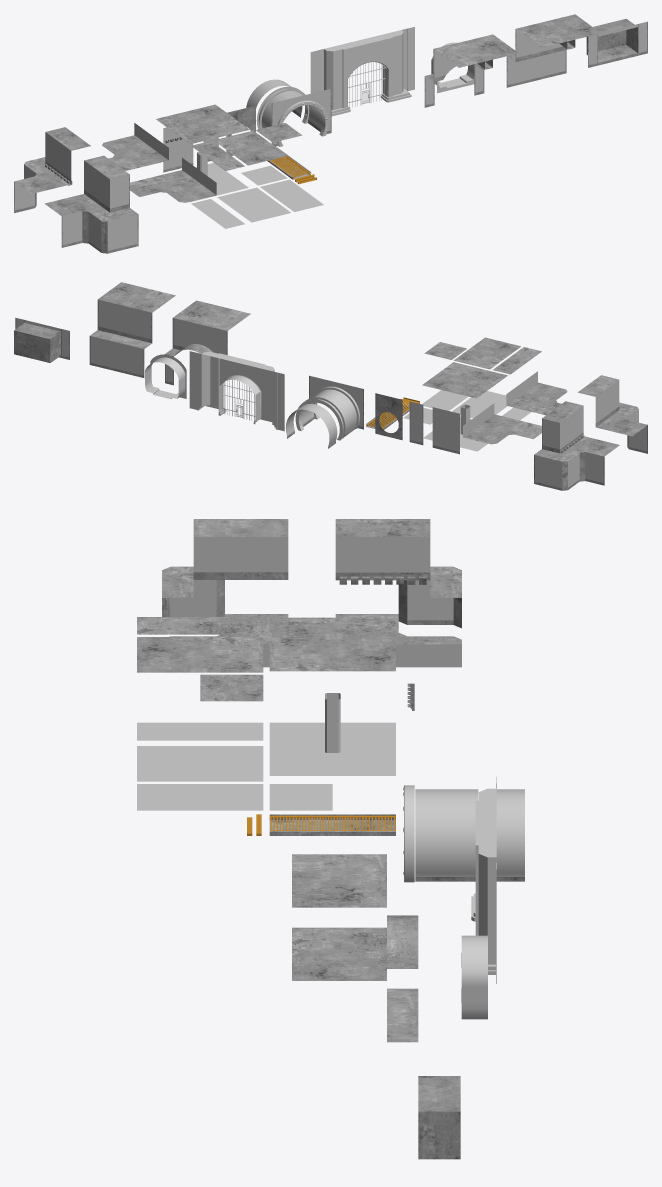
Rendered from Sewerage_Module_2.fbx.
3 renders of one model, top to bottom at view 1: azimuth 30°, elevation 25°; view 2: azimuth 150°, elevation 25°; view 3: azimuth 270°, elevation 25°, orthographic. The views are drawn at different scales.
Parts seen in each view (by area): view 1: SW_2_Entrance, SW_2_Transition_Tile_Ceiling_2_R, SW_2_Tile_Big_1, SW_2_Transition_Tile_Base_R, SW_2_Tile_Big_Ceiling, SW_2_Transition_Tile_Ceiling_2_L, SW_2_Tile_Big_Wall_2, SW_2_Ceiling_Tile_12x12m, SW_2_Transition_Tile_Ceiling_1_R, SW_2_Transition_Tile_Ceiling_1_L, SW_2_Tile_Big_Wall_1, SW_2_Ceiling_Tile_12x8m (+19 smaller); view 2: SW_2_Entrance, SW_2_Tile_Big_Ceiling, SW_2_Tile_Big_1, SW_2_Transition_Tile_Ceiling_2_L, SW_2_Transition_Tile_Base_L, SW_2_Transition_Tile_Ceiling_2_R, SW_2_Tile_Big_Wall_2, SW_2_Ceiling_Tile_12x12m, SW_2_Transition_Tile_Ceiling_1_L, SW_2_Tile_Big_Wall_1, SW_2_Transition_Tile_Ceiling_1_R, SW_2_Ceiling_Tile_12x8m (+17 smaller); view 3: SW_2_Ceiling_Tile_12x12m, SW_2_Tile_Big_Ceiling, SW_2_Tile_Big_1, SW_2_Transition_Tile_Ceiling_2_R, SW_2_Transition_Tile_Ceiling_2_L, SW_2_Ground_Tile_12x12m, SW_2_Tunnel_Tile, SW_2_Ceiling_Tile_12x8m, SW_2_Ground_Tile_12x8m, SW_2_Entrance, SW_2_Tile_Big_Wall_2, SW_2_Ground_Tile_12x6m (+13 smaller).
Part boxes in pixels (box(x1,y1,x2,y2)): SW_2_Entrance: box(310, 27, 414, 116); SW_2_Transition_Tile_Ceiling_2_R: box(44, 155, 138, 221); SW_2_Tile_Big_1: box(424, 34, 518, 107); SW_2_Transition_Tile_Base_R: box(61, 211, 138, 253); SW_2_Tile_Big_Ceiling: box(507, 14, 600, 62); SW_2_Transition_Tile_Ceiling_2_L: box(14, 127, 90, 193); SW_2_Tile_Big_Wall_2: box(586, 18, 647, 67); SW_2_Ceiling_Tile_12x12m: box(156, 104, 249, 144); SW_2_Transition_Tile_Ceiling_1_R: box(130, 158, 216, 202); SW_2_Transition_Tile_Ceiling_1_L: box(102, 123, 168, 170); SW_2_Tile_Big_Wall_1: box(506, 50, 566, 87); SW_2_Ceiling_Tile_12x8m: box(214, 130, 287, 165); SW_2_Entrance: box(189, 351, 284, 431); SW_2_Tile_Big_Ceiling: box(90, 282, 175, 348); SW_2_Tile_Big_1: box(165, 300, 250, 385); SW_2_Transition_Tile_Ceiling_2_L: box(534, 401, 619, 461); SW_2_Transition_Tile_Base_L: box(534, 452, 604, 490); SW_2_Transition_Tile_Ceiling_2_R: box(578, 375, 647, 436); SW_2_Tile_Big_Wall_2: box(14, 317, 69, 362); SW_2_Ceiling_Tile_12x12m: box(422, 362, 507, 398); SW_2_Transition_Tile_Ceiling_1_L: box(463, 403, 541, 444); SW_2_Tile_Big_Wall_1: box(89, 336, 144, 377); SW_2_Transition_Tile_Ceiling_1_R: box(506, 371, 567, 415); SW_2_Ceiling_Tile_12x8m: box(454, 337, 520, 369); SW_2_Ceiling_Tile_12x12m: box(269, 617, 395, 671); SW_2_Tile_Big_Ceiling: box(292, 927, 418, 1042); SW_2_Tile_Big_1: box(292, 854, 418, 968); SW_2_Transition_Tile_Ceiling_2_R: box(162, 519, 288, 597); SW_2_Transition_Tile_Ceiling_2_L: box(335, 519, 461, 597); SW_2_Ground_Tile_12x12m: box(269, 722, 395, 775); SW_2_Tunnel_Tile: box(415, 789, 478, 881); SW_2_Ceiling_Tile_12x8m: box(137, 637, 263, 672); SW_2_Ground_Tile_12x8m: box(137, 746, 263, 781); SW_2_Entrance: box(471, 776, 496, 983); SW_2_Tile_Big_Wall_2: box(418, 1076, 460, 1159); SW_2_Ground_Tile_12x6m: box(137, 784, 263, 810).
Size of the model in its own units: 12811 by 1250 by 3683.
